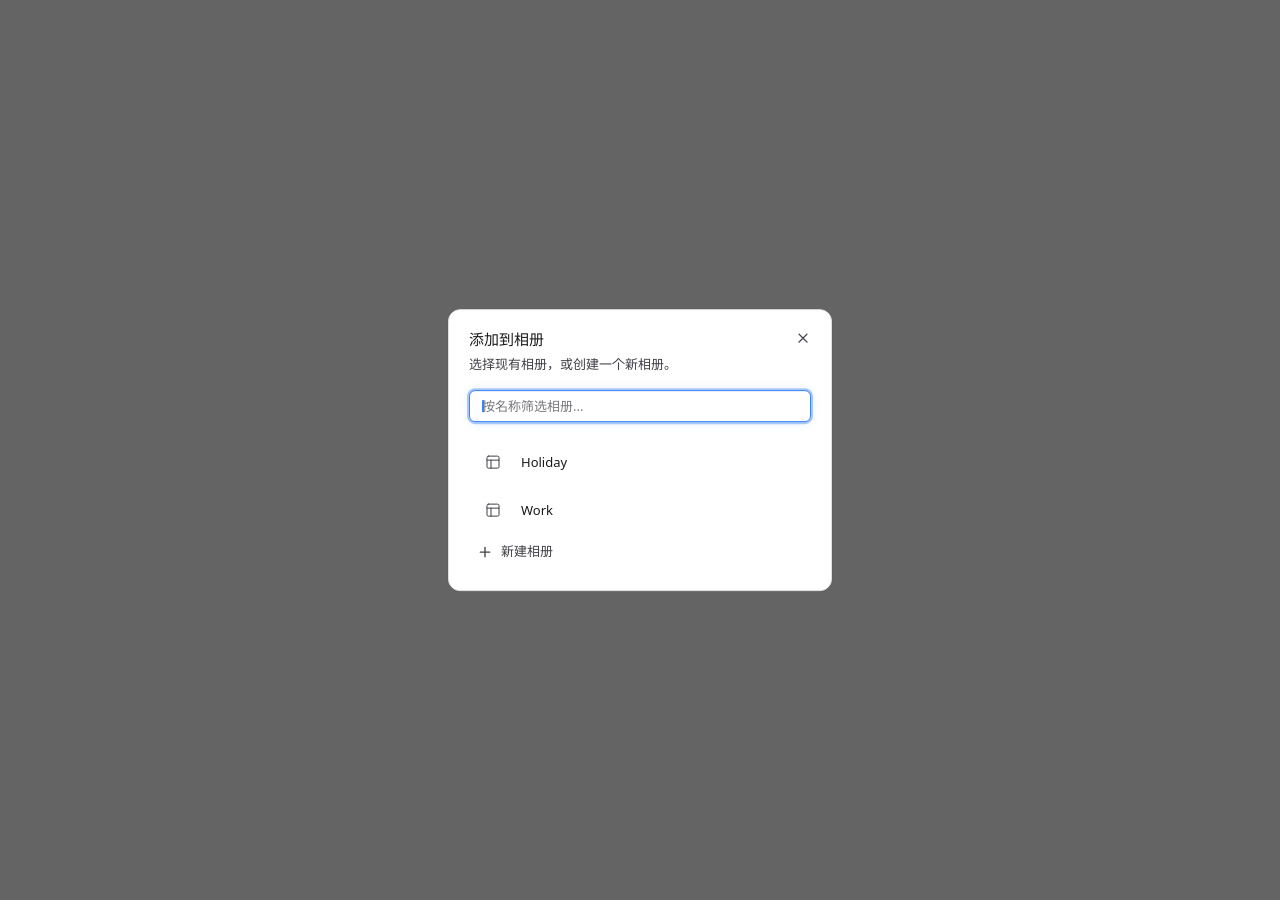
Test: AddToAlbumDialog › focuses the album filter and narrows the existing album list
The width and height of the screenshot is (1280, 900).
Type "Work" into the field at (640, 406), box [469,390,811,422]
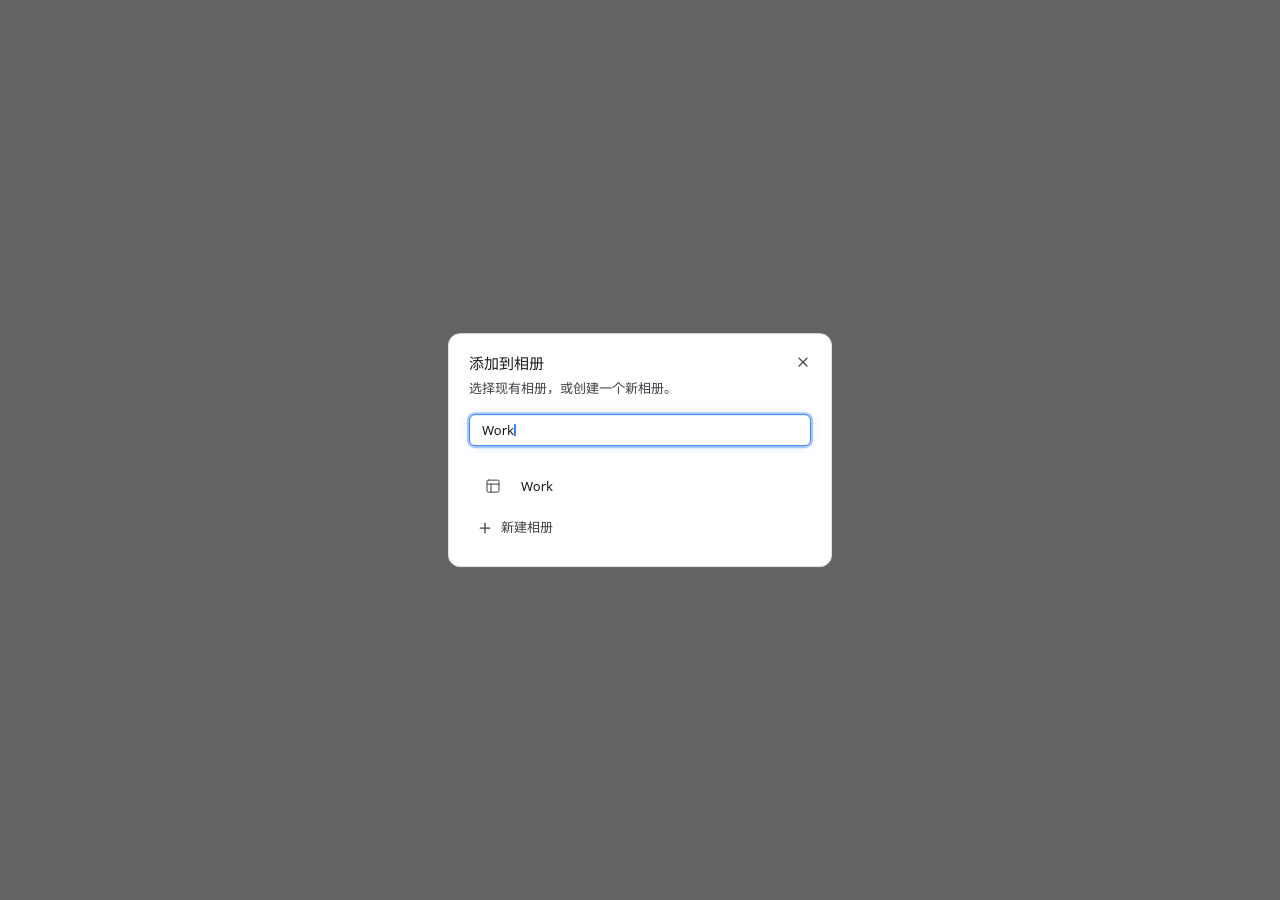
Check: the button "Work" is shown, box [465,462,815,510]
Check: the button "Holiday" is gone
